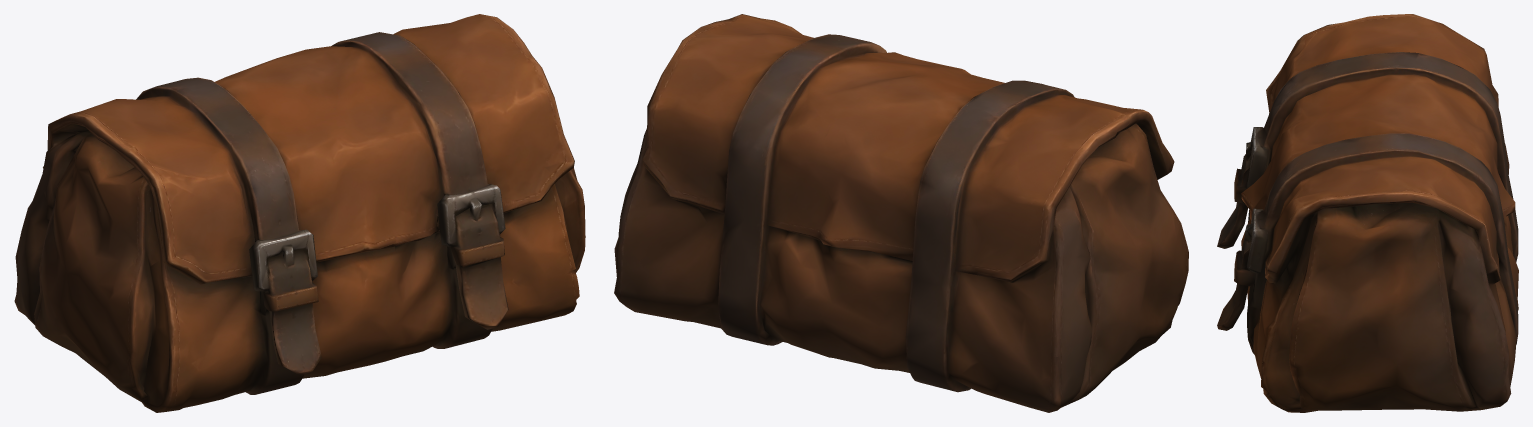
File: vestibule-brown-satchel.glb
3 views of the same model, side by side, from view 1: azimuth 30°, elevation 25°; view 2: azimuth 150°, elevation 25°; view 3: azimuth 270°, elevation 25° (orthographic). The views are drawn at different scales.
Parts seen in each view (by area): view 1: tripo_node_0a0e2a88-26eb-4c51-b53b-a18cfce1279d; view 2: tripo_node_0a0e2a88-26eb-4c51-b53b-a18cfce1279d; view 3: tripo_node_0a0e2a88-26eb-4c51-b53b-a18cfce1279d.
Part boxes in pixels (x1=…): tripo_node_0a0e2a88-26eb-4c51-b53b-a18cfce1279d: x1=14, y1=14, x2=585, y2=412; tripo_node_0a0e2a88-26eb-4c51-b53b-a18cfce1279d: x1=614, y1=14, x2=1188, y2=412; tripo_node_0a0e2a88-26eb-4c51-b53b-a18cfce1279d: x1=1217, y1=14, x2=1518, y2=412.
Bounding box in the file's own units: 0.6 × 0.3025 × 0.3643.
1 material, 1 textured.
